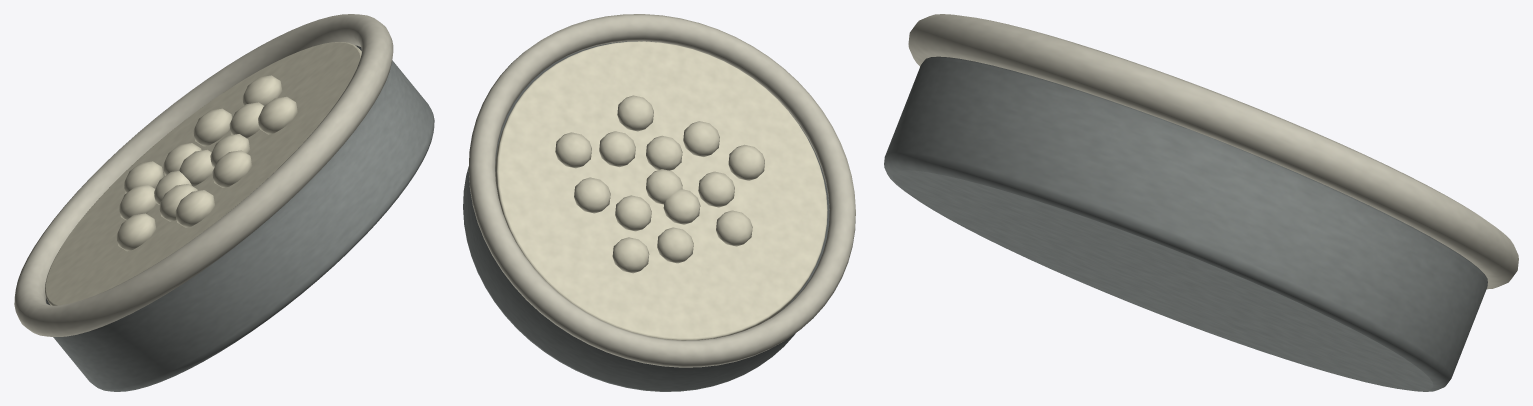
3 renders of one model, left to right at view 1: azimuth 30°, elevation 25°; view 2: azimuth 150°, elevation 25°; view 3: azimuth 270°, elevation 25°, orthographic. The views are drawn at different scales.
Parts seen in each view (by area): view 1: Thick-walled sample vessel; view 2: Thick-walled sample vessel; view 3: Thick-walled sample vessel.
Boxes of the visible parts, x1,y1,x2,y2 form: Thick-walled sample vessel: (14,14,434,391); Thick-walled sample vessel: (463,14,855,391); Thick-walled sample vessel: (884,14,1518,391).
Bounding box in the file's own units: 0.9707 × 0.7871 × 1.
Materials: 1 (1 with a texture image).
